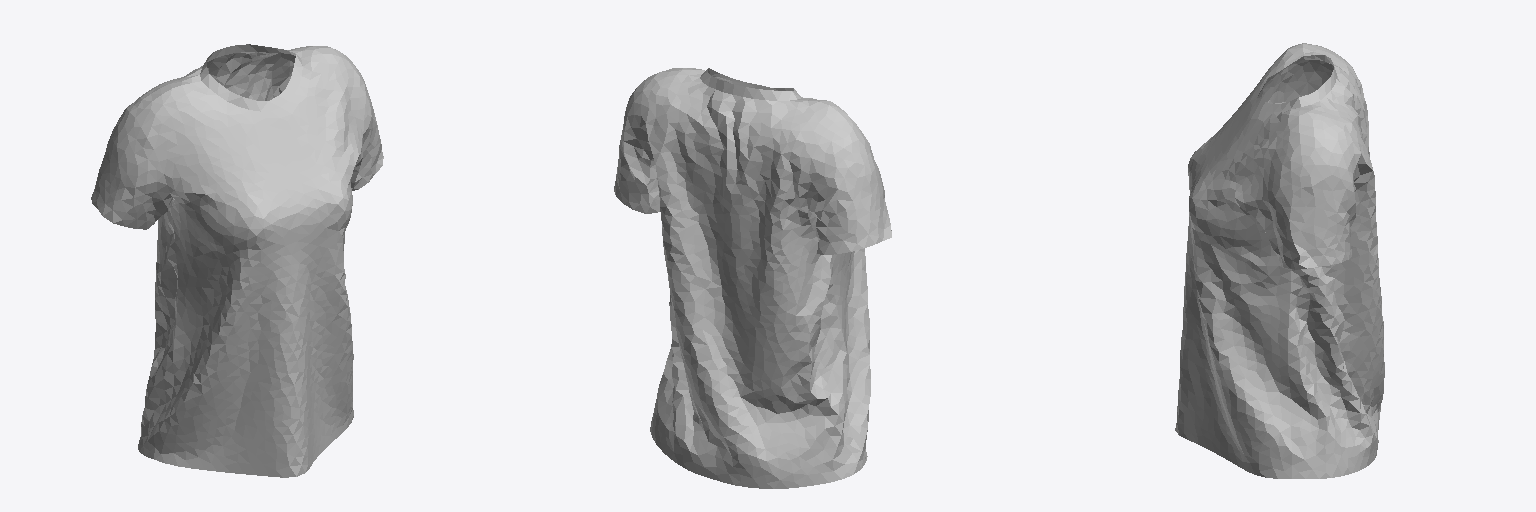
File: shirt.obj
3 renders of one model, left to right at view 1: azimuth 30°, elevation 25°; view 2: azimuth 150°, elevation 25°; view 3: azimuth 270°, elevation 25°, orthographic.
Parts seen in each view (by area): view 1: 139592_ONLJESSIE; view 2: 139592_ONLJESSIE; view 3: 139592_ONLJESSIE.
Boxes of the visible parts, x1,y1,x2,y2 form: 139592_ONLJESSIE: [91, 44, 383, 477]; 139592_ONLJESSIE: [614, 68, 891, 488]; 139592_ONLJESSIE: [1175, 43, 1384, 478].
Bounding box in the file's own units: 0.4473 × 0.5844 × 0.2926.